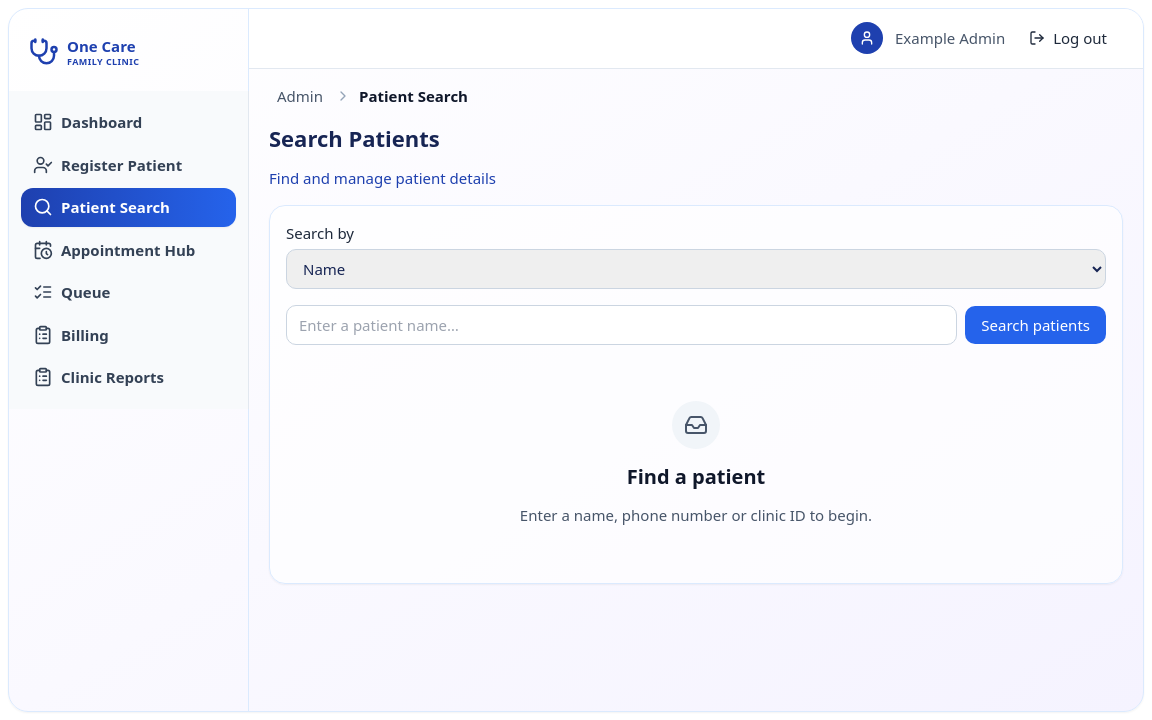
Test: ADM-03 search, selection and privacy › searches by name with documented query
Step 1. Select "Name" in the dropdown labelled "Search by" → (696, 269), box [286,249,1106,289]
Step 2. Type "Example" into the search field → (622, 325), box [286,305,957,345]
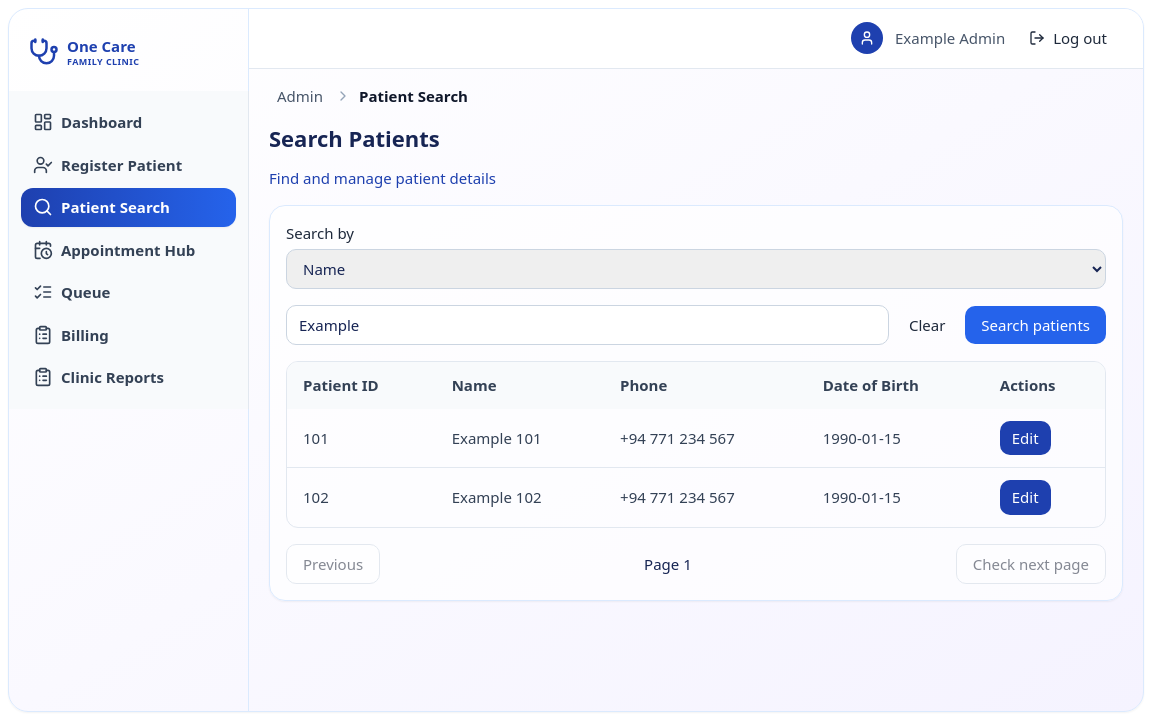
Result: the button with aria-label "Edit patient 101" is shown at [1000,421,1051,455]
